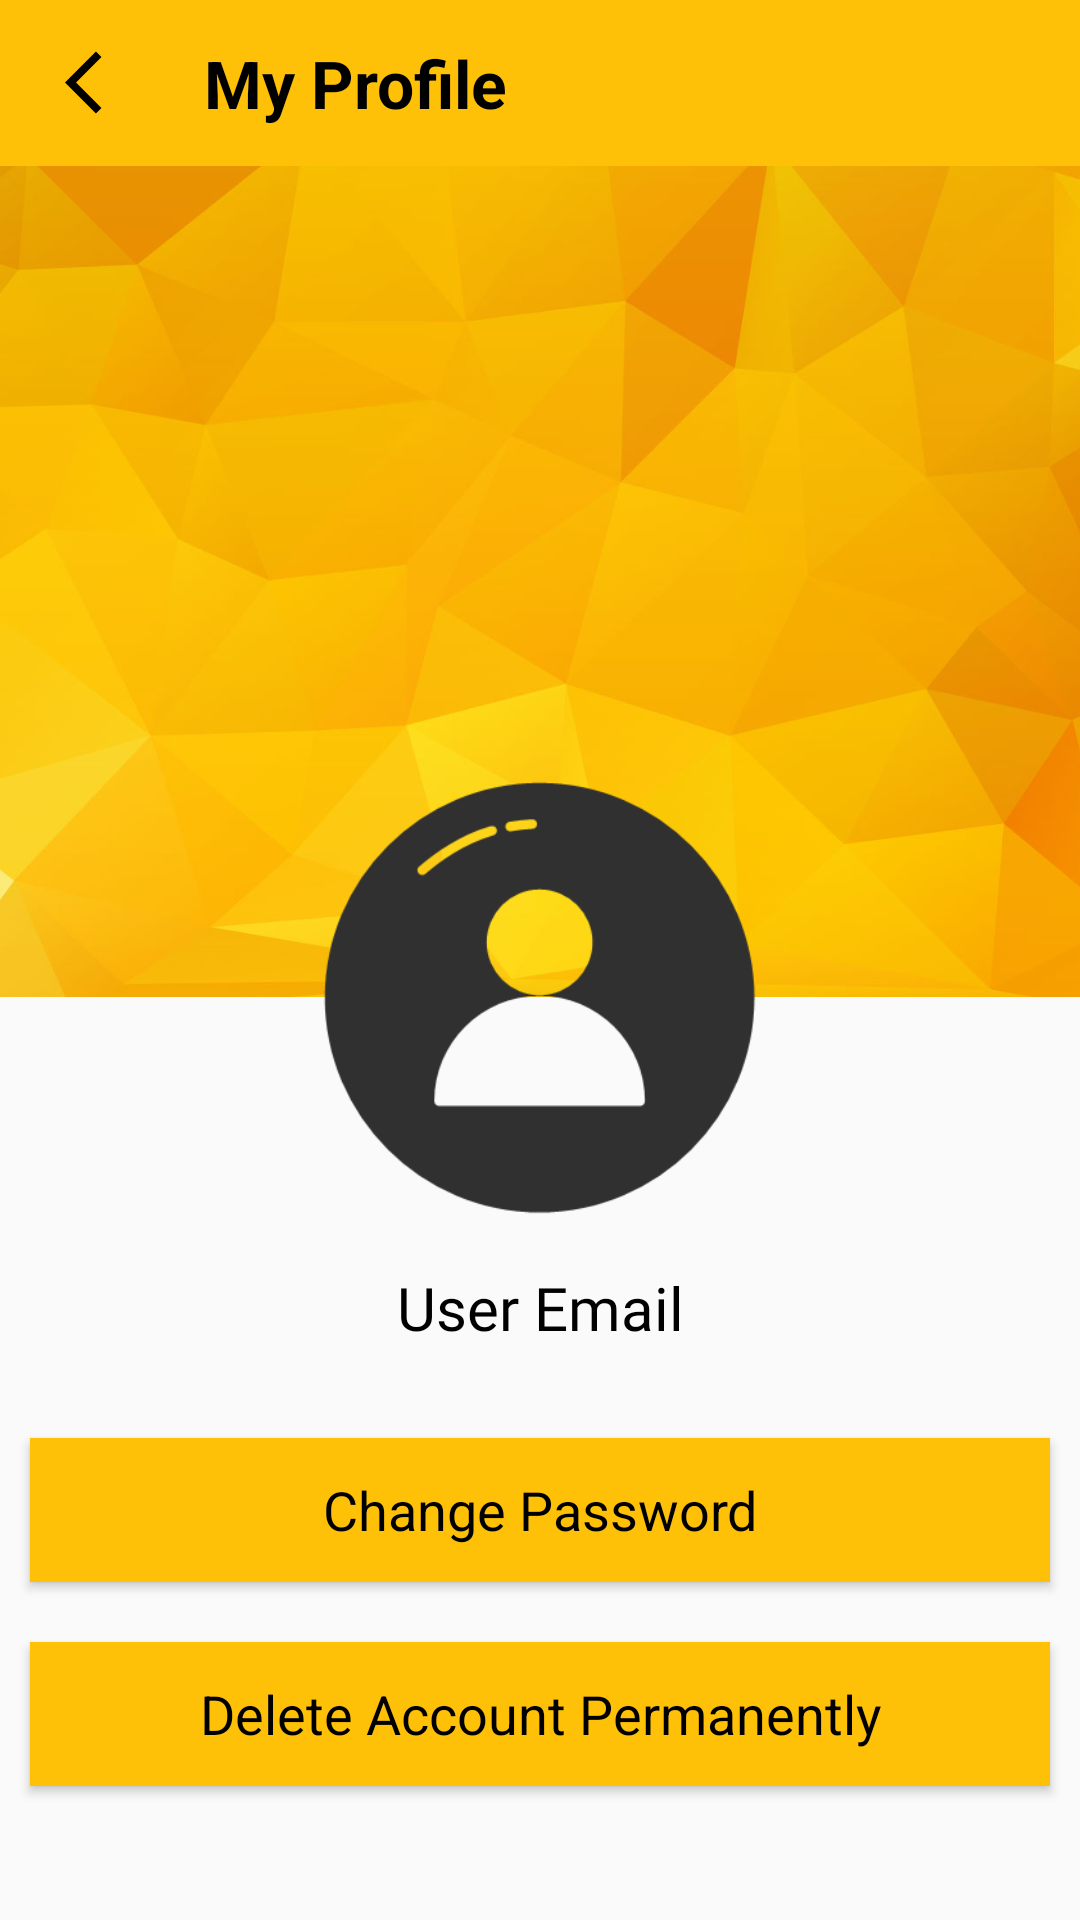

Point at icon controls on the screen. Image size 1080px×1920px, points as (x=x, y=y).
arrow back: (x=83, y=82)
